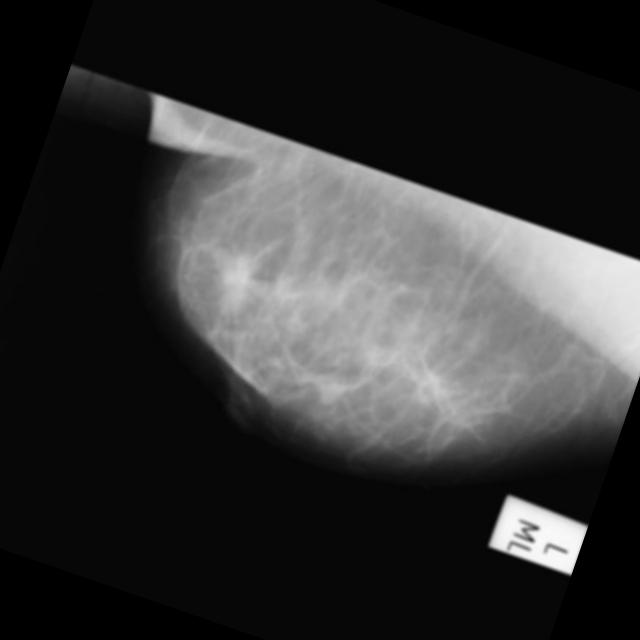SPIC: (190, 242, 276, 328)
